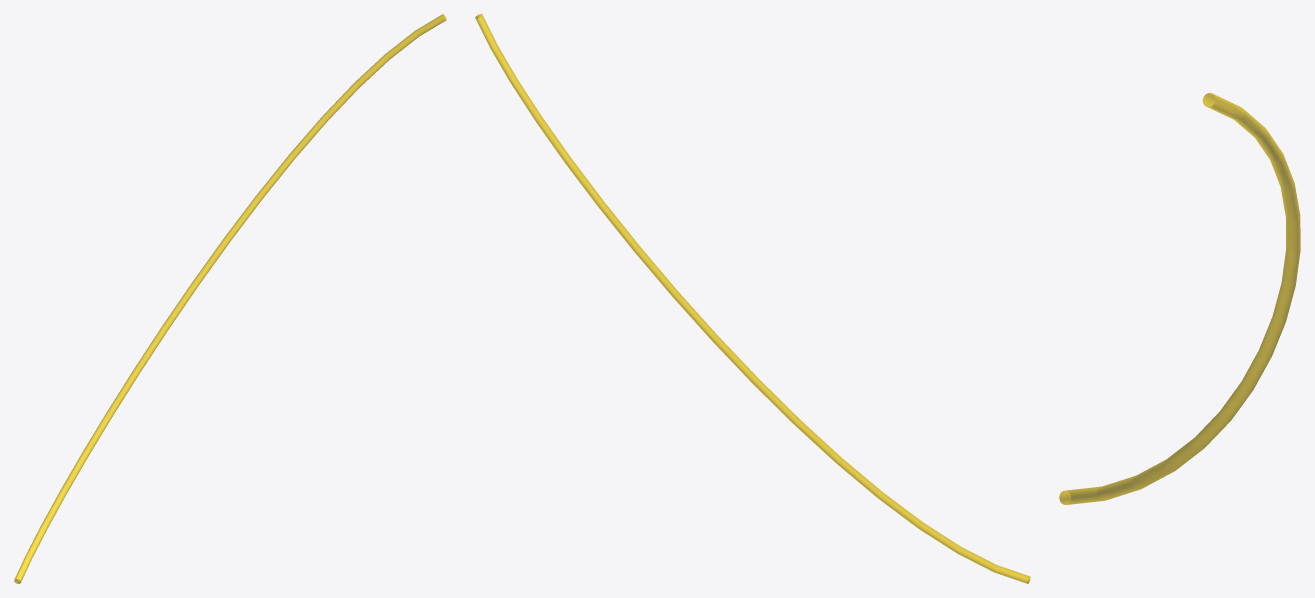
The model's file is Event_17758602_track_47.fbx.
3 renders of one model, left to right at view 1: azimuth 30°, elevation 25°; view 2: azimuth 150°, elevation 25°; view 3: azimuth 270°, elevation 25°, orthographic. The views are drawn at different scales.
Visible parts, largest first — view 1: Model; view 2: Model; view 3: Model.
Boxes of the visible parts, <box> form: Model: <box>14,14,446,583</box>; Model: <box>475,14,1030,583</box>; Model: <box>1059,93,1300,504</box>.
Bounding box in the file's own units: 2.96 × 2.6 × 0.6612.
